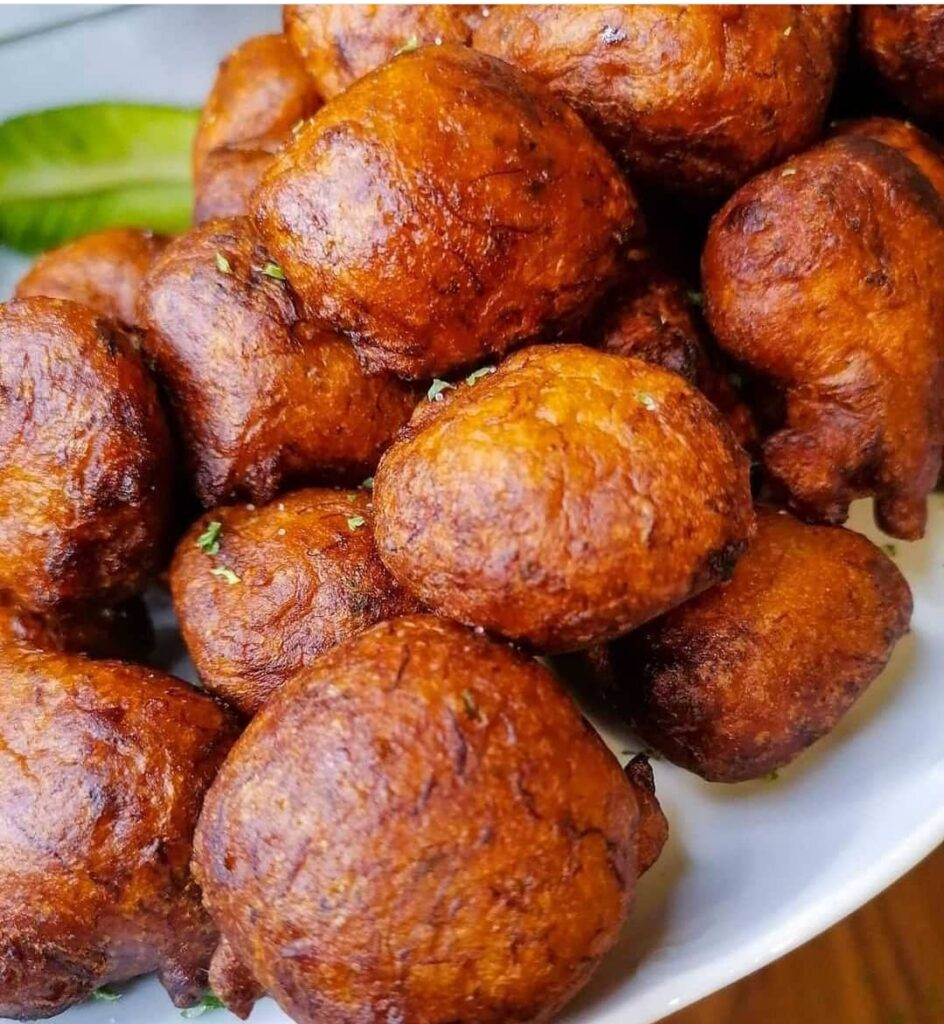claclo: (52, 263, 735, 813)
